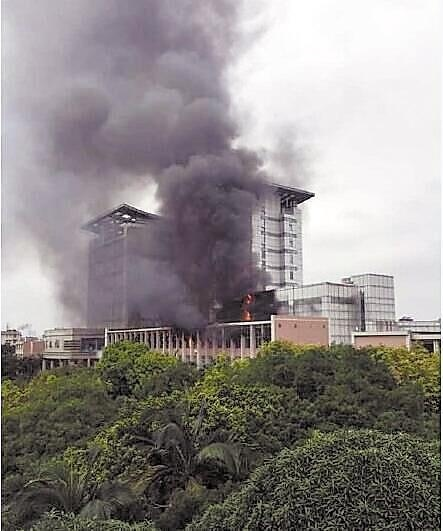fire: (238, 294, 254, 319)
